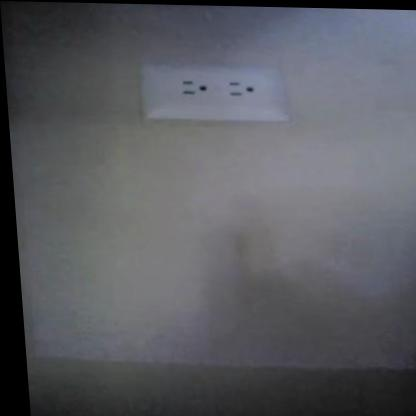OUTLET: (141, 59, 292, 121)
